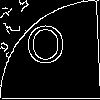O: (25, 25, 66, 73)
